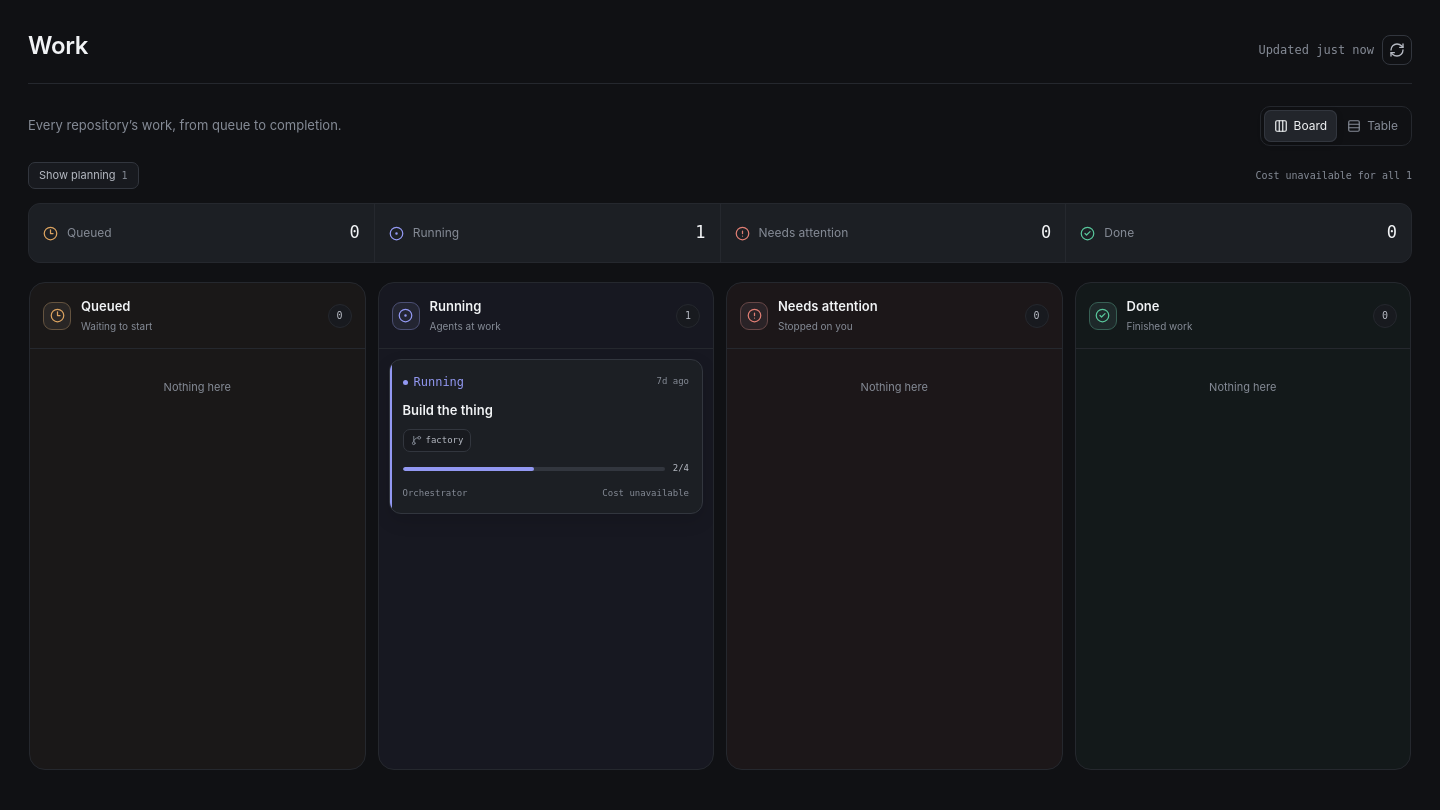
it: Work board › hides planning work until the toolbar control is used
Check: the button "Build the thing" is shown, box [388,359,703,514]
Check: the text "Critique checkpoint 2" is not shown
Step 1. Click the button "Show planning 1" → coordinates (83, 176), box [28,162,139,189]
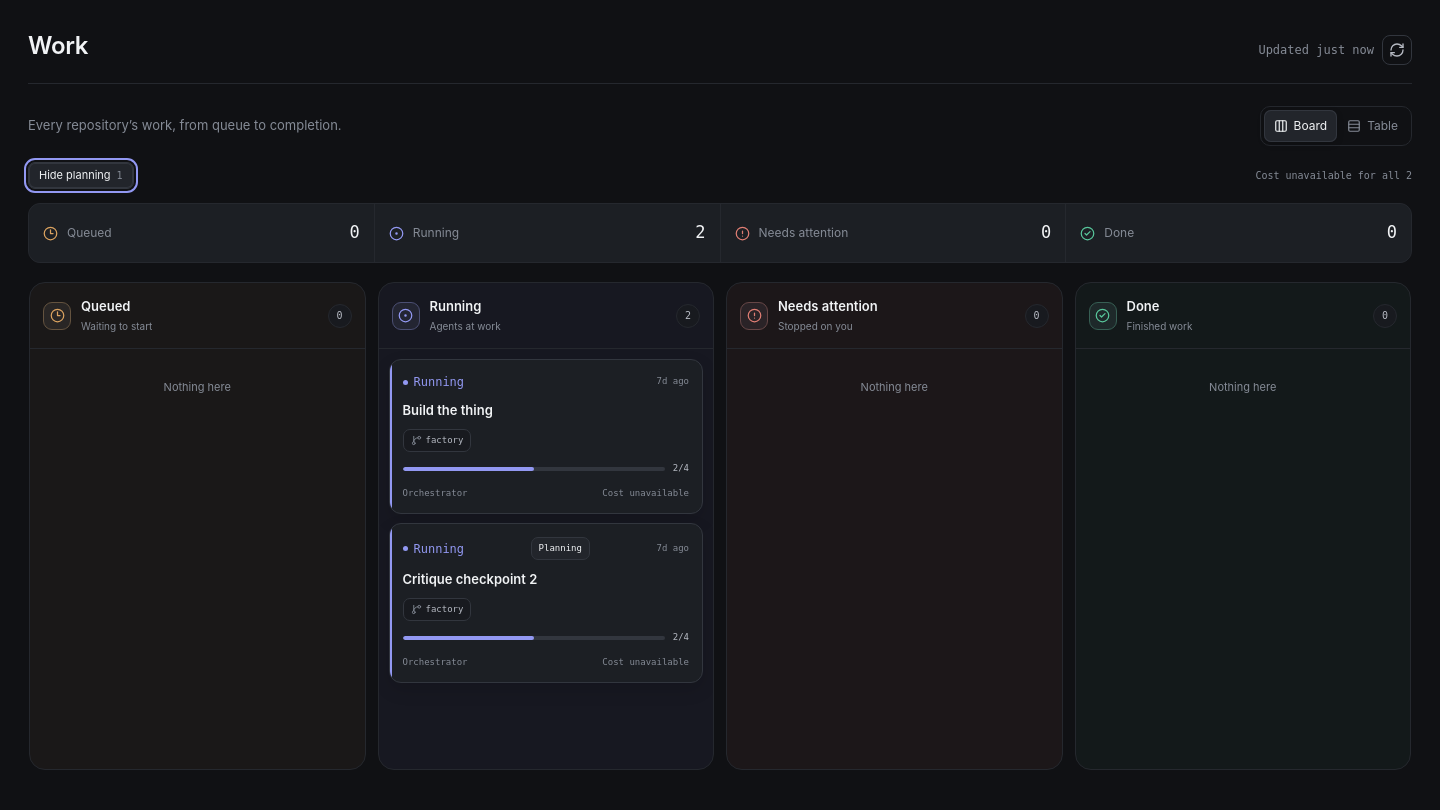
Check: the text "Planning" is shown, box [531,537,590,560]
